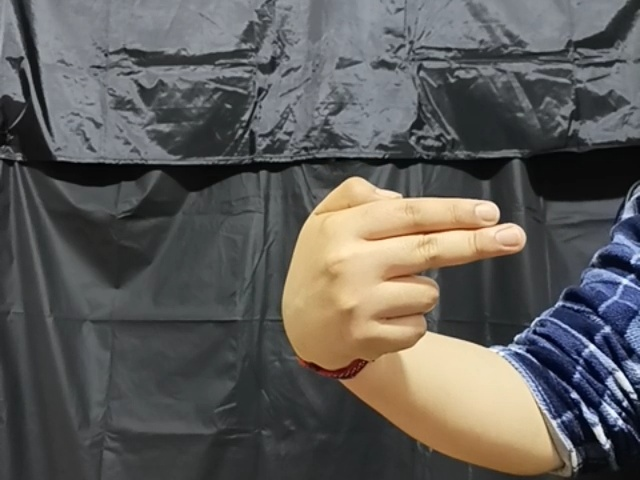H: (272, 175, 526, 378)
